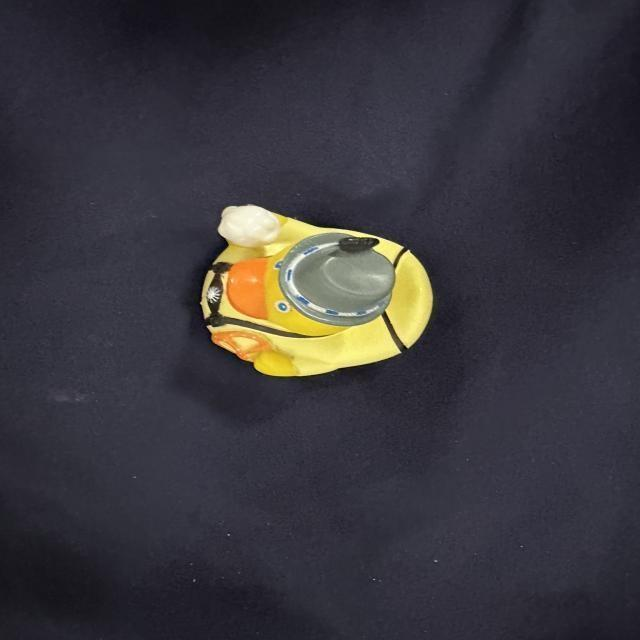rubber-duck: (200, 204, 431, 374)
